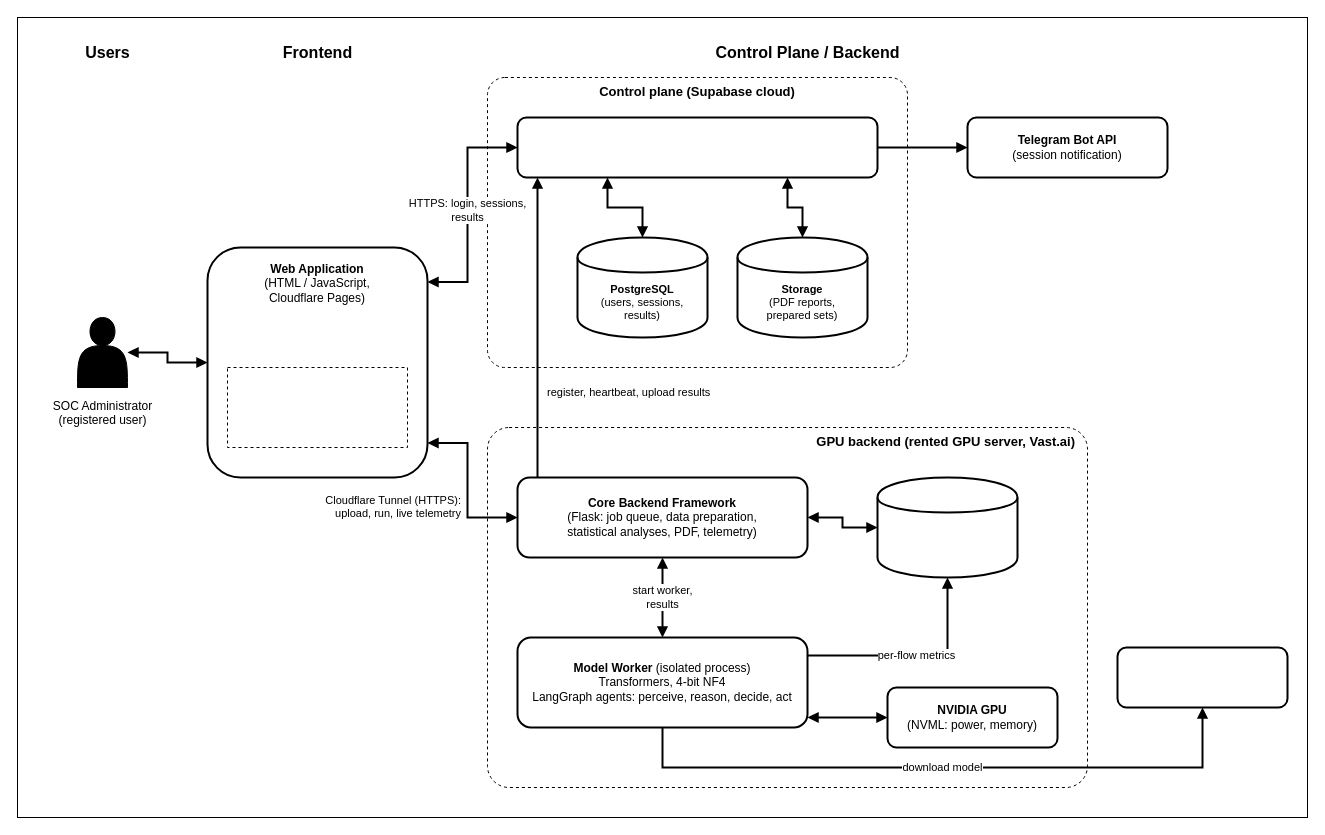
Image size: 1325x835. Some labels were removed from this diagram. Each missing label, with the centre of its shape:
AgentMeter API (Supabase Edge Function, Deno): (697,147)
Browser data preparation (Python in WebAssembly: Pyodide, Web Worker): (317,407)
Hugging Face Hub (open-source models): (1202,677)
SQLite (run database, temporary): (947,527)
